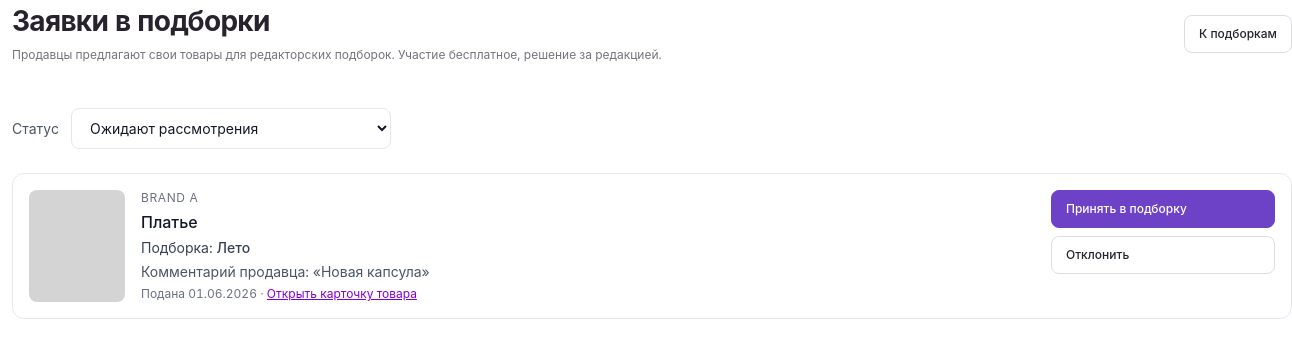
Test: AdminCollectionSubmissions › shows a clear error when acceptance fails and still refreshes
Click the button with test id "accept-s1" at x=1163, y=209, box [1051,190,1275,228]
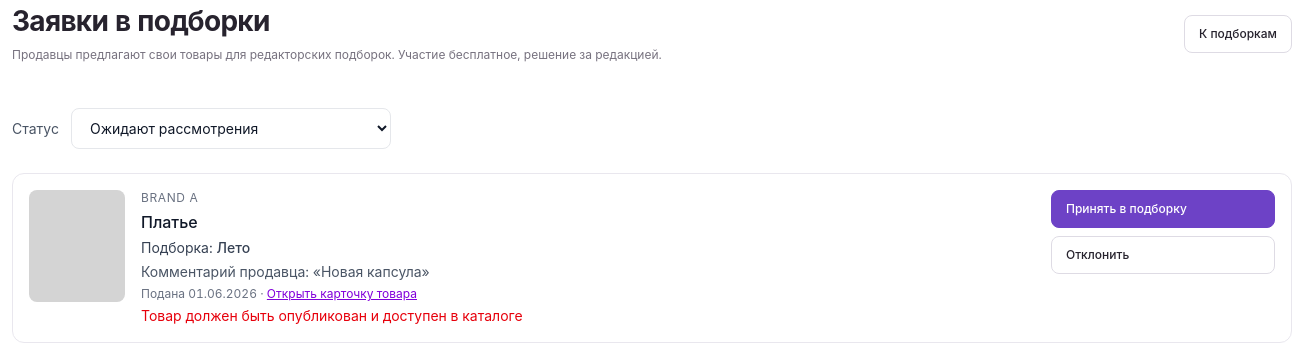
Result: the message shows "опубликован" at [141,307,523,324]
